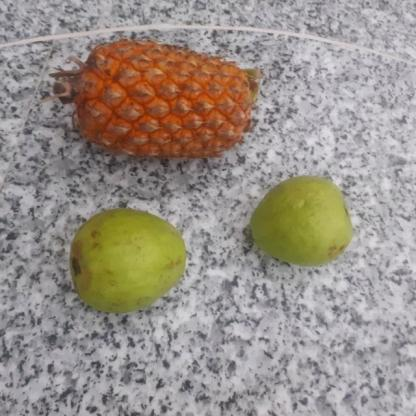guava: (67, 210, 185, 312), (245, 178, 354, 266)
pineapple: (66, 40, 264, 161)
